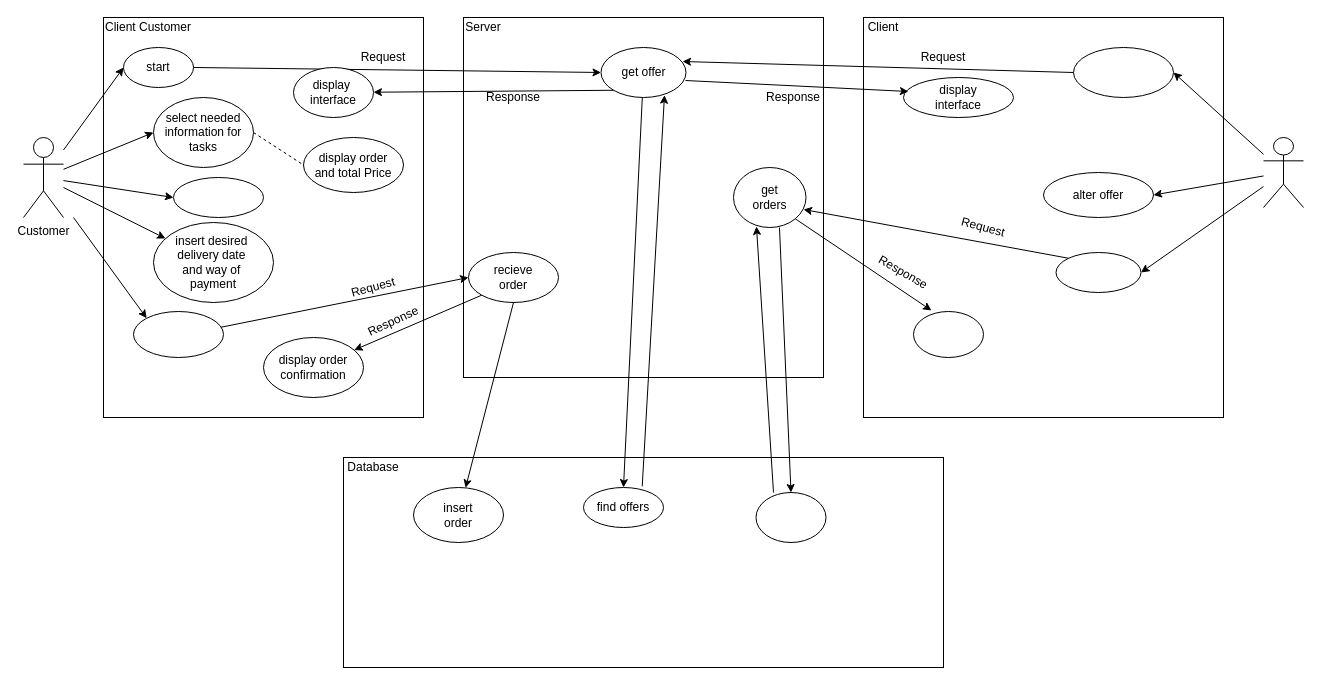
Image size: 1323x693. Some labels were removed from this diagram. Here are the shapes that lost their labels. From the top down, the box of each, then its label:
(1072, 46, 1174, 98): see offer
(1262, 136, 1304, 208): Provider
(172, 176, 264, 218): check order
(1055, 252, 1141, 292): see orders
(132, 310, 224, 358): send order
(912, 310, 984, 358): display orders
(755, 492, 826, 542): find orders
